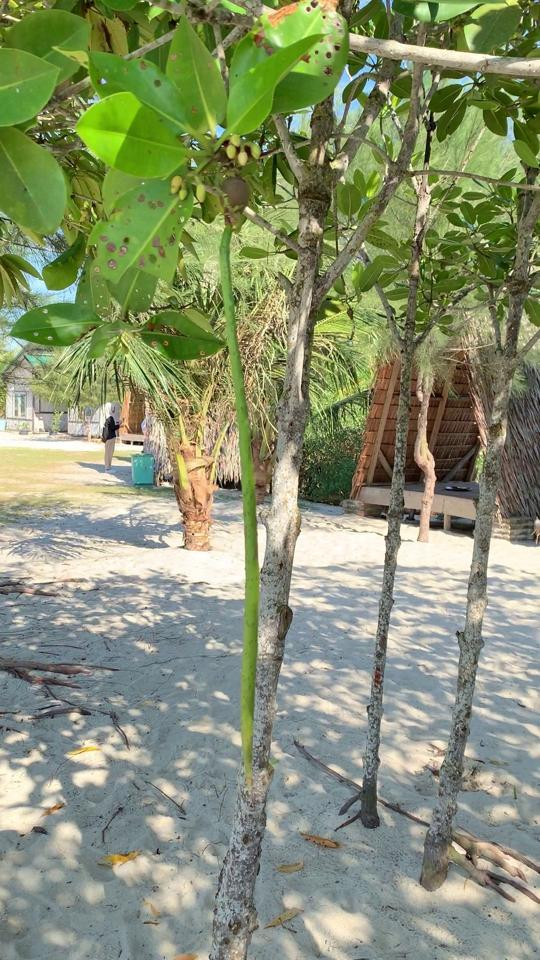mentah: (197, 130, 280, 804)
